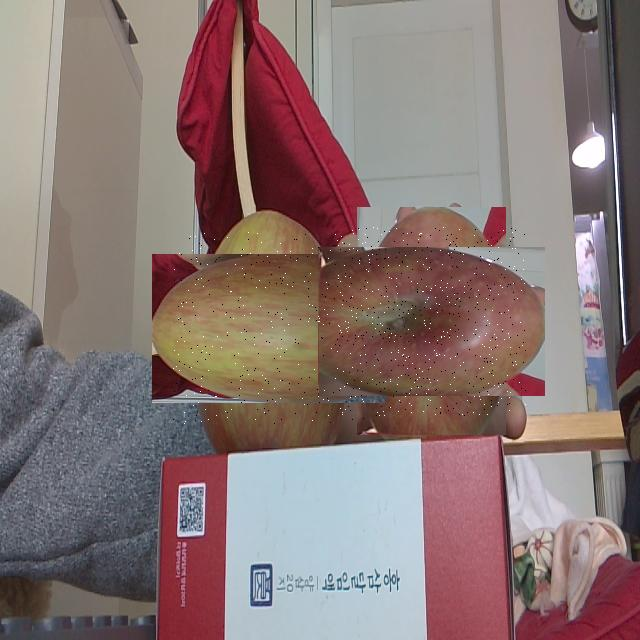apple: (173, 232, 365, 424), (337, 227, 526, 416)
